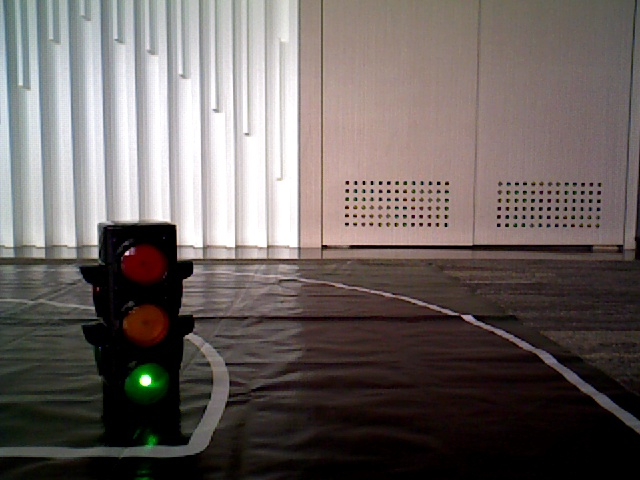green: (99, 234, 172, 414)
